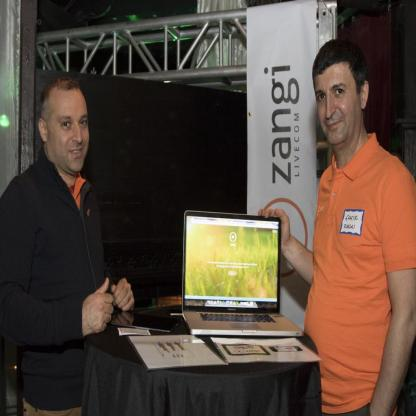board: (181, 209, 304, 338)
